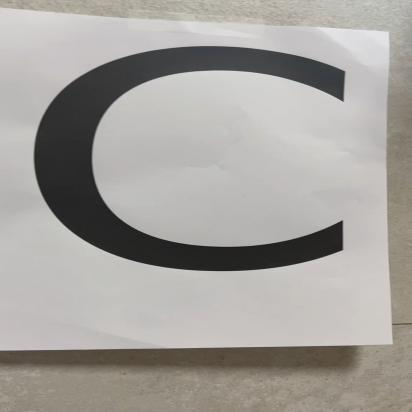seat: (0, 1, 412, 373)
